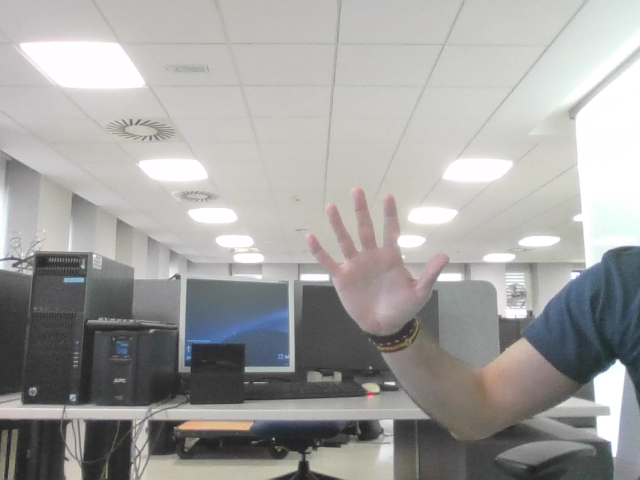Mano Abierta: (317, 199, 434, 306)
